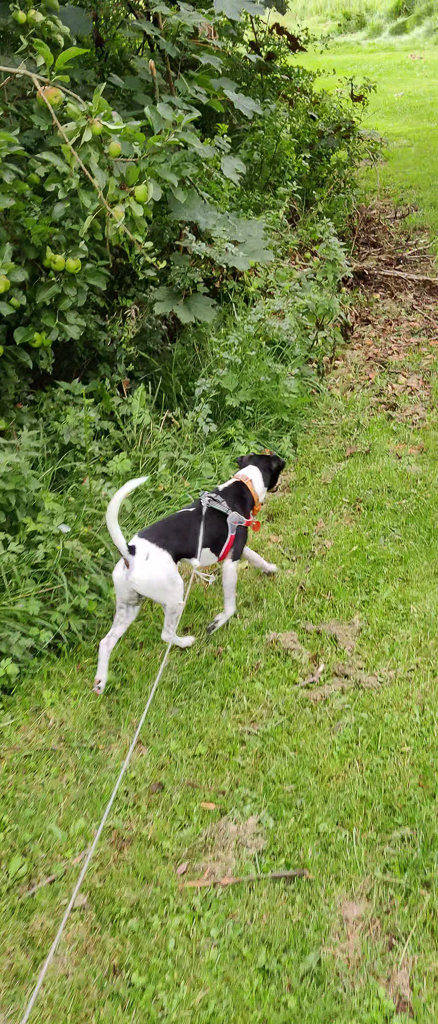Dog: (75, 443, 297, 703)
